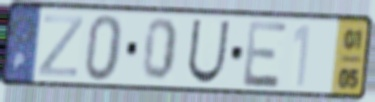0: (83, 12, 125, 84), (141, 15, 181, 85)
1: (292, 23, 312, 89)
E: (241, 19, 290, 91)
U: (185, 17, 232, 86)
Z: (35, 13, 87, 80)
